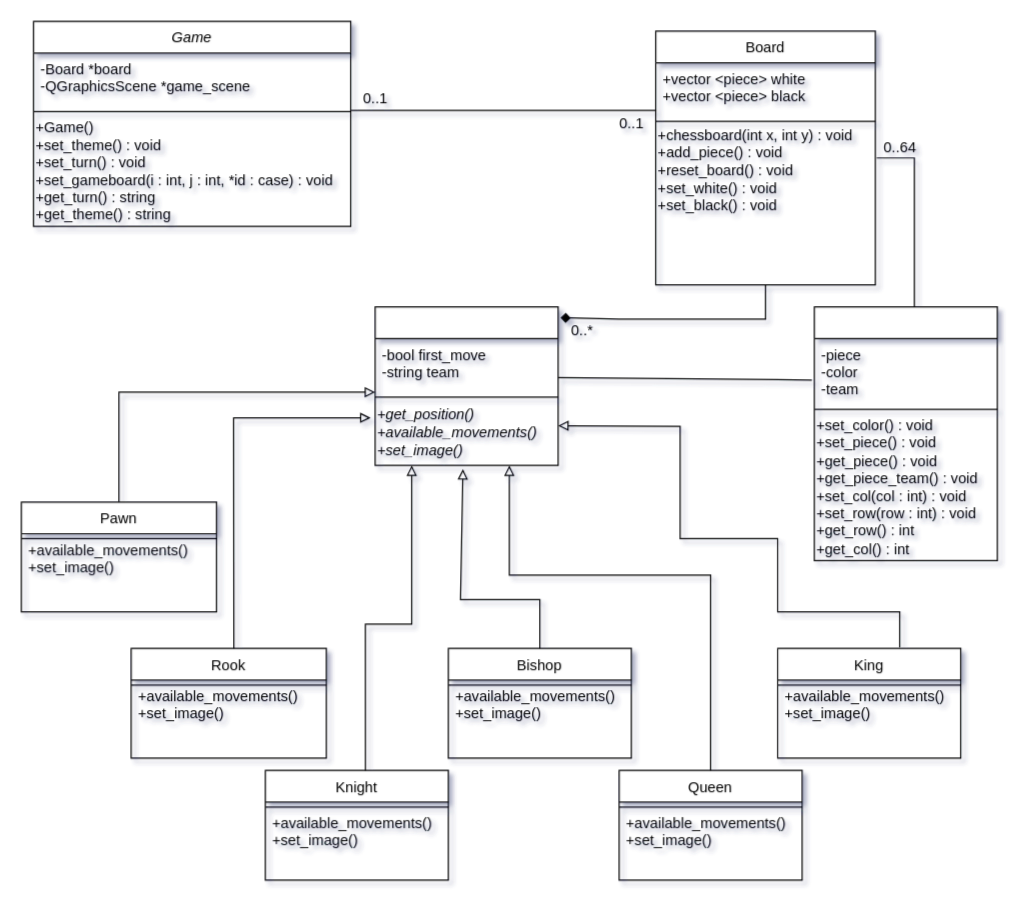
Some shapes in this 1026 by 909 pixel diagram are drawn without their labels. Here are the shapes that lost their labels. From the top down, the box of each, then its label:
(374, 306, 558, 465): Piece
(813, 306, 997, 561): Case
